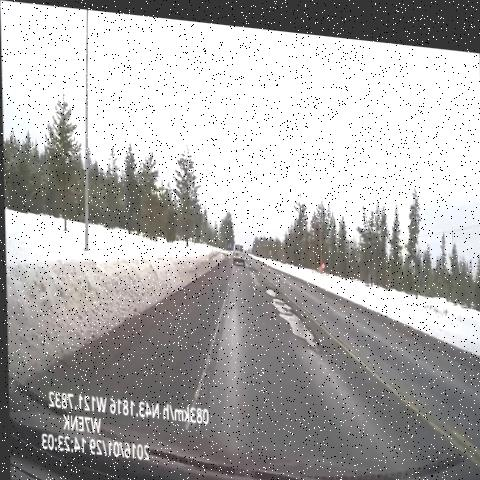pothole: (259, 274, 323, 355), (241, 247, 261, 274)
